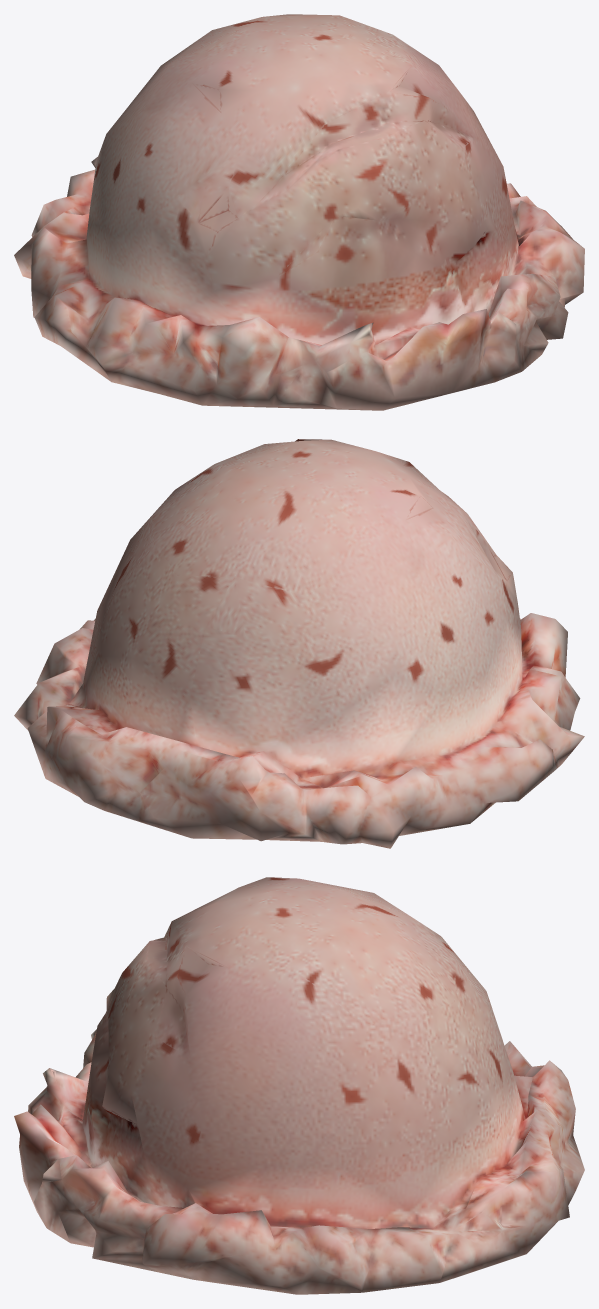
Rendered from Food_IceCreamStrawberry.fbx.
The picture shows the model from 3 angles, top to bottom: view 1: azimuth 30°, elevation 25°; view 2: azimuth 150°, elevation 25°; view 3: azimuth 270°, elevation 25°; orthographic projection.
Parts seen in each view (by area): view 1: Food_IceCreamStrawberry; view 2: Food_IceCreamStrawberry; view 3: Food_IceCreamStrawberry.
Part boxes in pixels (x1,y1,x2,y2): Food_IceCreamStrawberry: (14, 14, 584, 410); Food_IceCreamStrawberry: (14, 439, 584, 848); Food_IceCreamStrawberry: (14, 877, 584, 1294).
Size of the model in its own units: 0.26 by 0.14 by 0.26.
1 material, 1 textured.
